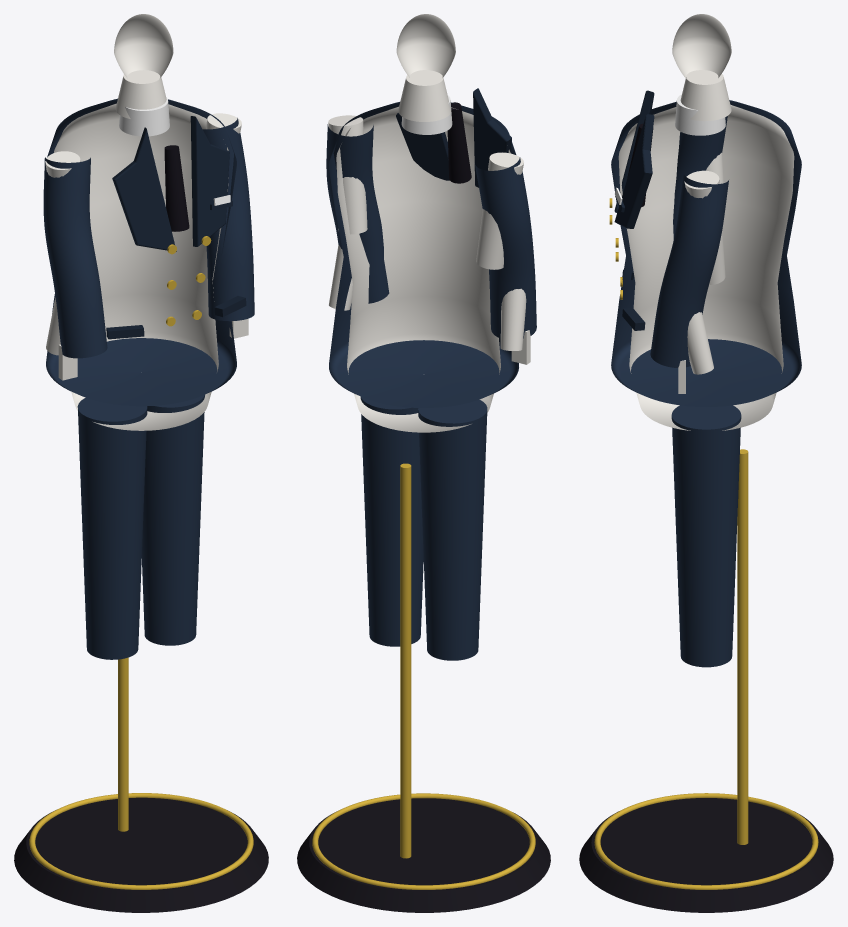
The model's file is mens-tailored.glb.
3 views of the same model, side by side, from view 1: azimuth 30°, elevation 25°; view 2: azimuth 150°, elevation 25°; view 3: azimuth 270°, elevation 25° (orthographic).
Visible parts, largest first — view 1: DisplayPlinth, Mannequin_Torso, RightTrouser, LeftTrouser, BlazerShell, RightSleeve, LeftSleeve, men_RetailMannequin_DisplayForm, RightLapel, LeftLapel, Mannequin_Head, Mannequin_Neck (+4 smaller); view 2: Mannequin_Torso, DisplayPlinth, RightTrouser, BlazerShell, LeftTrouser, men_RetailMannequin_DisplayForm, RightSleeve, LeftSleeve, RightArm, Mannequin_Head, LeftArm, Mannequin_Neck (+4 smaller); view 3: Mannequin_Torso, DisplayPlinth, LeftTrouser, BlazerShell, LeftSleeve, men_RetailMannequin_DisplayForm, Mannequin_Head, LeftArm, LeftLapel, Mannequin_Neck, RightSleeve, ShirtCollar (+1 smaller).
Boxes of the visible parts, left/top/right/bottom form: DisplayPlinth: left=14, top=797, right=268, bottom=912; Mannequin_Torso: left=54, top=103, right=228, bottom=430; RightTrouser: left=77, top=397, right=147, bottom=659; LeftTrouser: left=141, top=394, right=205, bottom=645; BlazerShell: left=46, top=98, right=236, bottom=406; RightSleeve: left=43, top=157, right=107, bottom=358; LeftSleeve: left=203, top=118, right=254, bottom=321; men_RetailMannequin_DisplayForm: left=29, top=657, right=253, bottom=889; RightLapel: left=112, top=127, right=176, bottom=251; LeftLapel: left=190, top=116, right=229, bottom=246; Mannequin_Head: left=114, top=14, right=173, bottom=78; Mannequin_Neck: left=115, top=70, right=168, bottom=118; Mannequin_Torso: left=336, top=106, right=510, bottom=432; DisplayPlinth: left=297, top=798, right=550, bottom=912; RightTrouser: left=418, top=399, right=487, bottom=660; BlazerShell: left=329, top=102, right=518, bottom=407; LeftTrouser: left=360, top=396, right=423, bottom=646; men_RetailMannequin_DisplayForm: left=312, top=463, right=535, bottom=889; RightSleeve: left=474, top=157, right=536, bottom=338; LeftSleeve: left=326, top=124, right=389, bottom=303; RightArm: left=476, top=152, right=530, bottom=364; Mannequin_Head: left=396, top=14, right=455, bottom=77; LeftArm: left=328, top=115, right=367, bottom=310; Mannequin_Neck: left=398, top=70, right=451, bottom=121; Mannequin_Torso: left=618, top=104, right=794, bottom=430; DisplayPlinth: left=579, top=798, right=833, bottom=912; LeftTrouser: left=671, top=405, right=741, bottom=667; BlazerShell: left=611, top=100, right=801, bottom=406; LeftSleeve: left=650, top=174, right=728, bottom=367; men_RetailMannequin_DisplayForm: left=594, top=449, right=818, bottom=889; Mannequin_Head: left=672, top=14, right=731, bottom=78; LeftArm: left=678, top=170, right=725, bottom=393; LeftLapel: left=614, top=114, right=654, bottom=228; Mannequin_Neck: left=680, top=70, right=731, bottom=121; RightSleeve: left=673, top=116, right=727, bottom=239; ShirtCollar: left=675, top=94, right=725, bottom=135.
Bounding box in the file's own units: 0.84 × 3.07 × 0.84.
